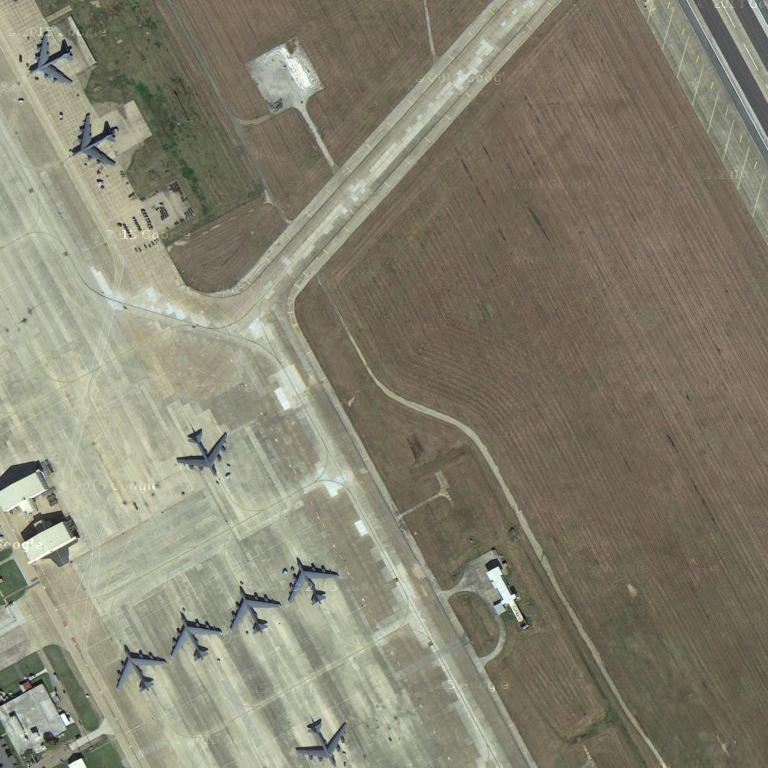B-52: (281, 554, 342, 608), (171, 427, 235, 478), (65, 111, 121, 168), (165, 610, 225, 663), (223, 584, 284, 636), (292, 715, 353, 766), (24, 29, 77, 87), (110, 640, 168, 693)
